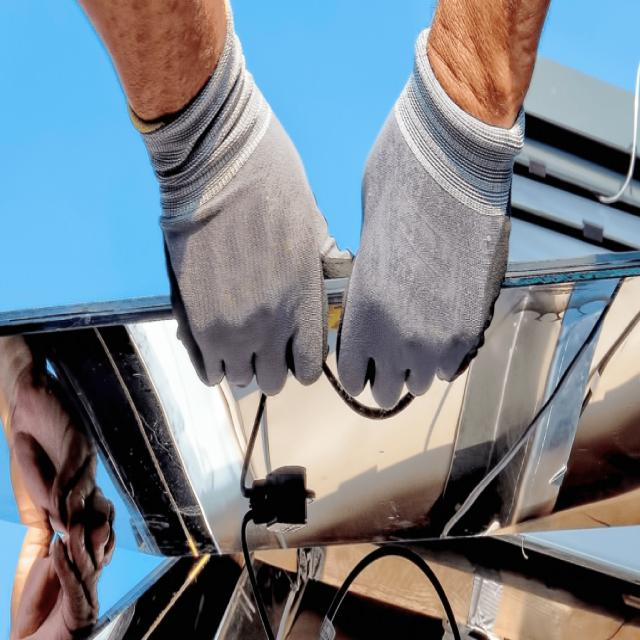gloves: (120, 0, 354, 400), (333, 25, 525, 417)
